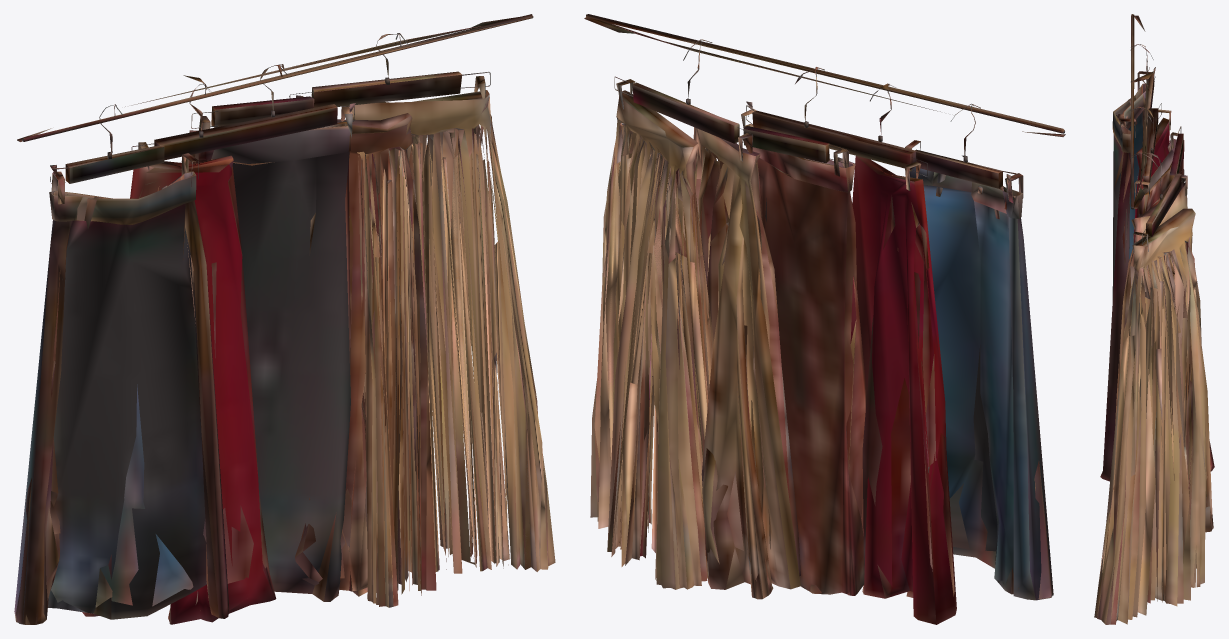
File: mall-womens-skirts-group.glb
3 views of the same model, side by side, from view 1: azimuth 30°, elevation 25°; view 2: azimuth 150°, elevation 25°; view 3: azimuth 270°, elevation 25° (orthographic). The views are drawn at different scales.
Visible parts, largest first — view 1: womens-skirts-group; view 2: womens-skirts-group; view 3: womens-skirts-group.
Part boxes in pixels (x1,y1,x2,y2): womens-skirts-group: (14,14,555,624); womens-skirts-group: (584,14,1065,624); womens-skirts-group: (1094,14,1214,624).
Size of the model in its own units: 0.7362 by 0.76 by 0.1914.
1 material, 1 textured.
